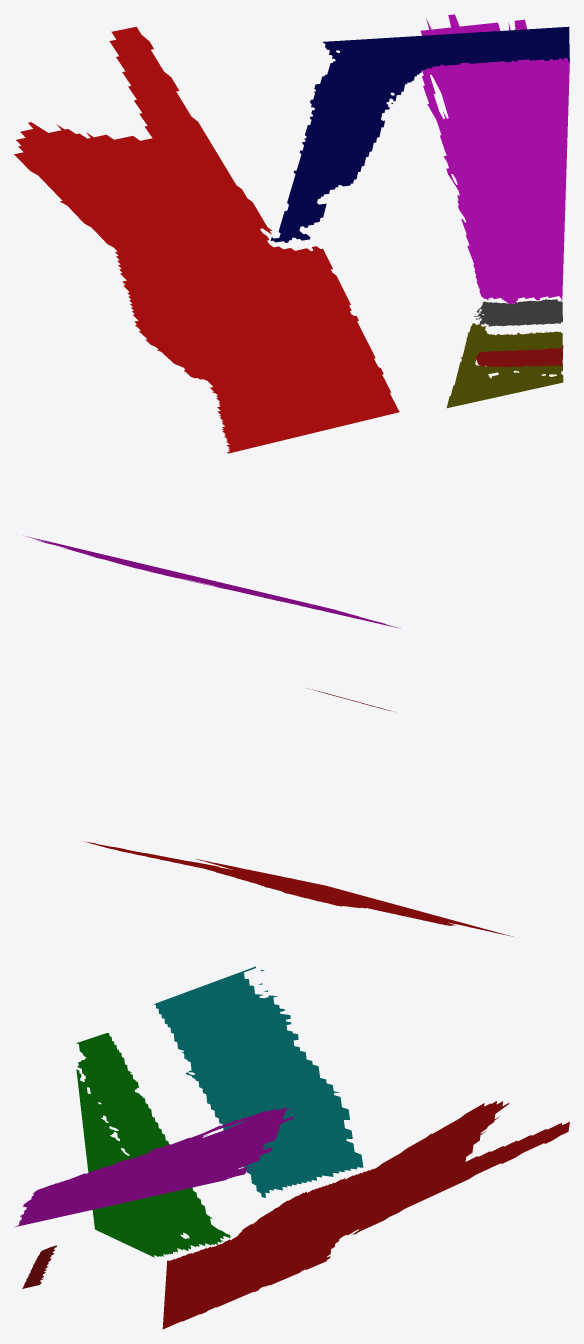
File: 360_seg_GTplane.glb
3 views of the same model, one above another, from view 1: azimuth 30°, elevation 25°; view 2: azimuth 150°, elevation 25°; view 3: azimuth 270°, elevation 25° (orthographic). The views are drawn at different scales.
Bounding box in the file's own units: 2.26 × 1.81 × 3.07.
